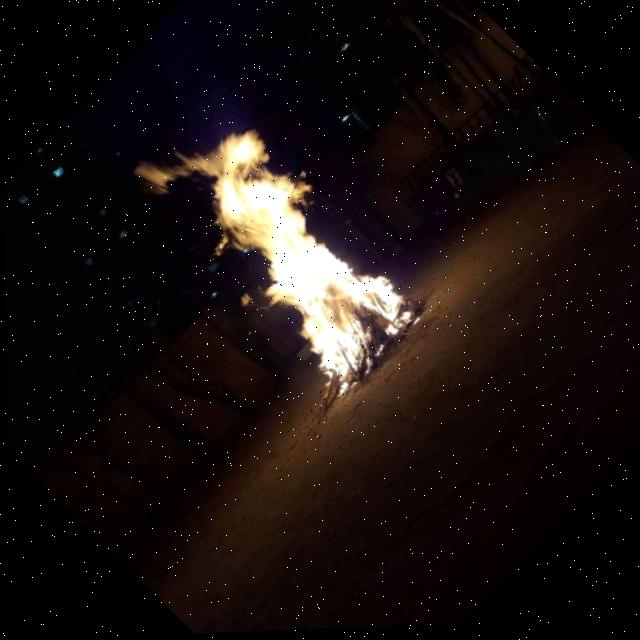Fire: (112, 81, 436, 414)
